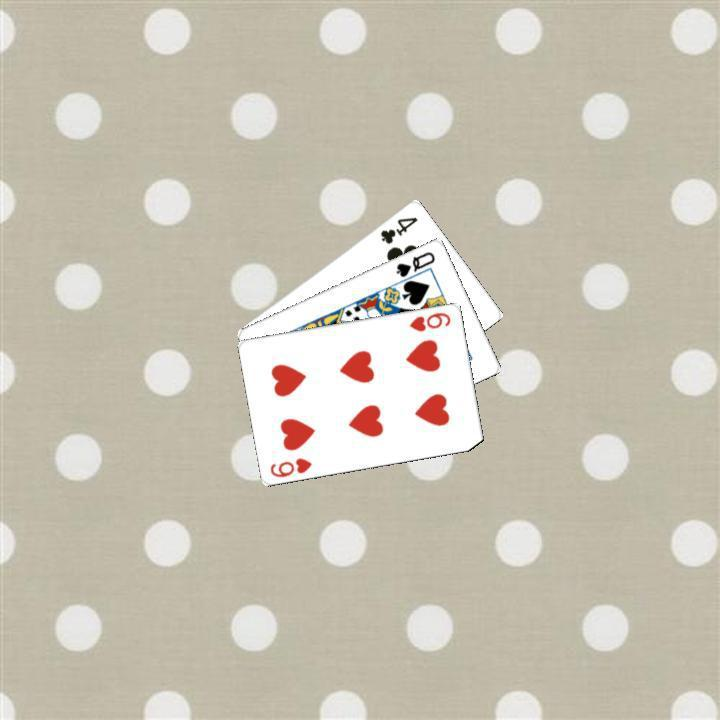4: (376, 212, 420, 246)
6: (405, 307, 453, 333), (266, 453, 314, 479)
Q: (391, 247, 437, 279)
